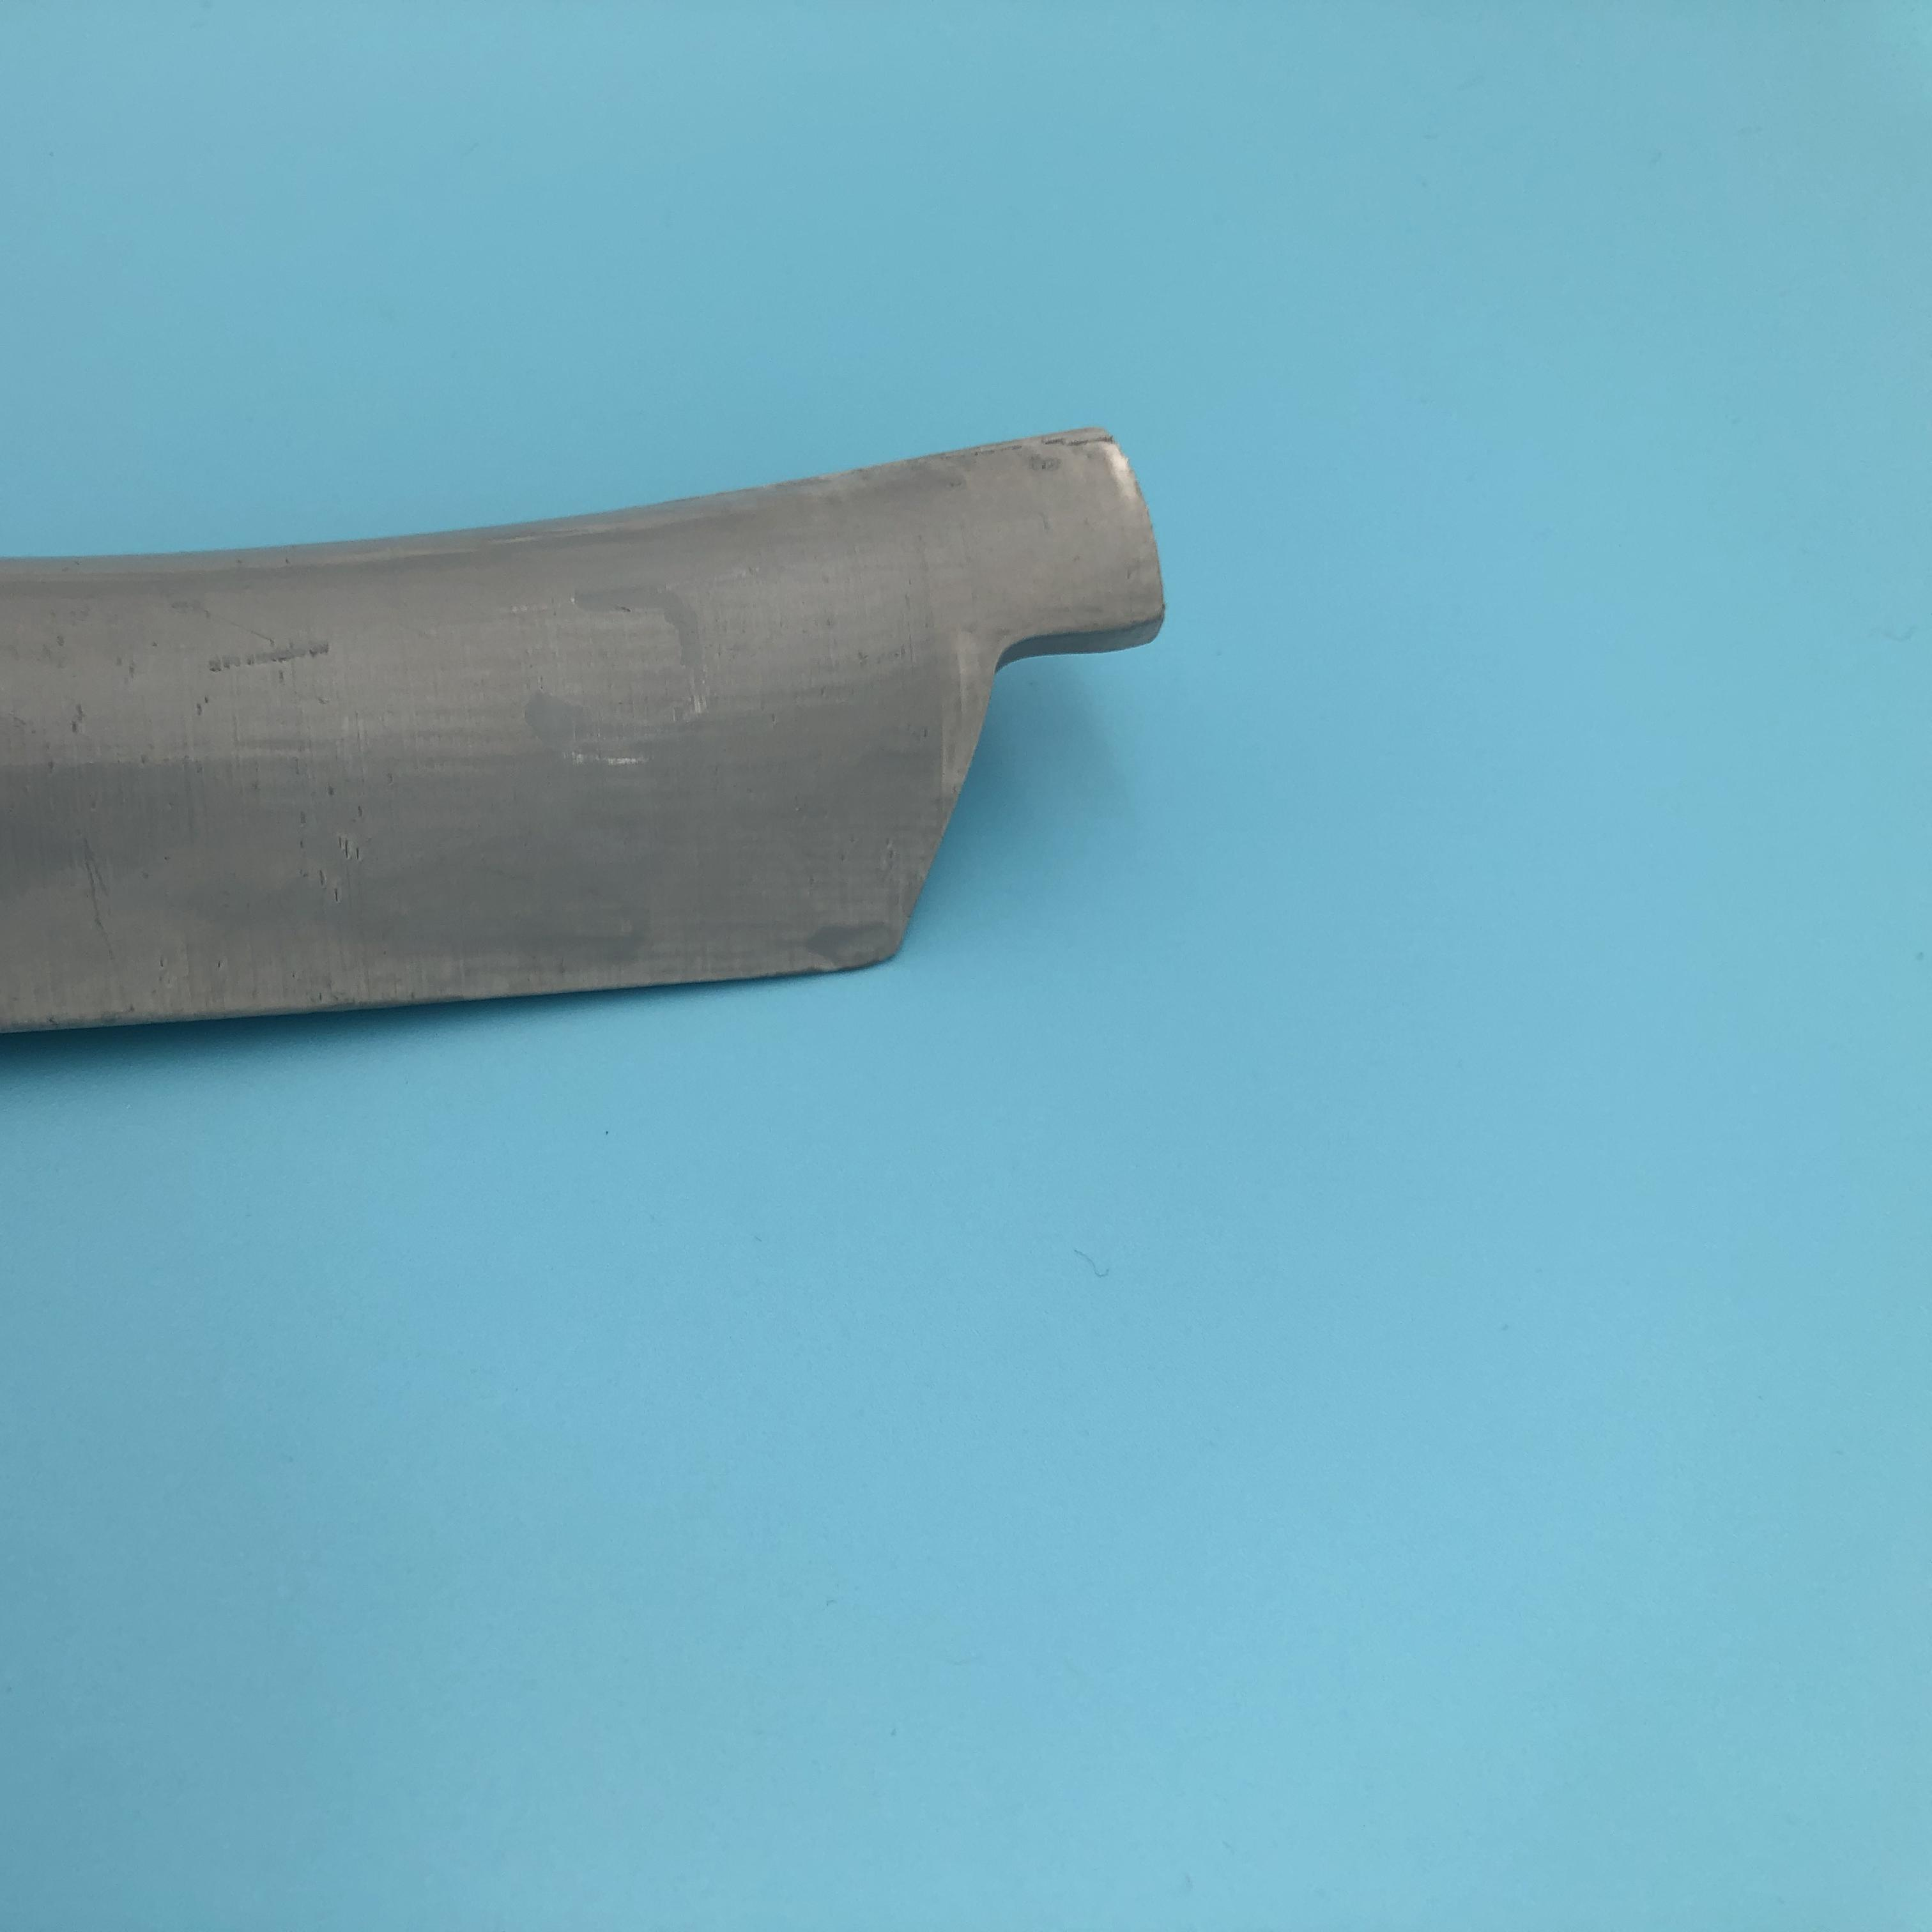fracture: (888, 594, 1178, 934)
